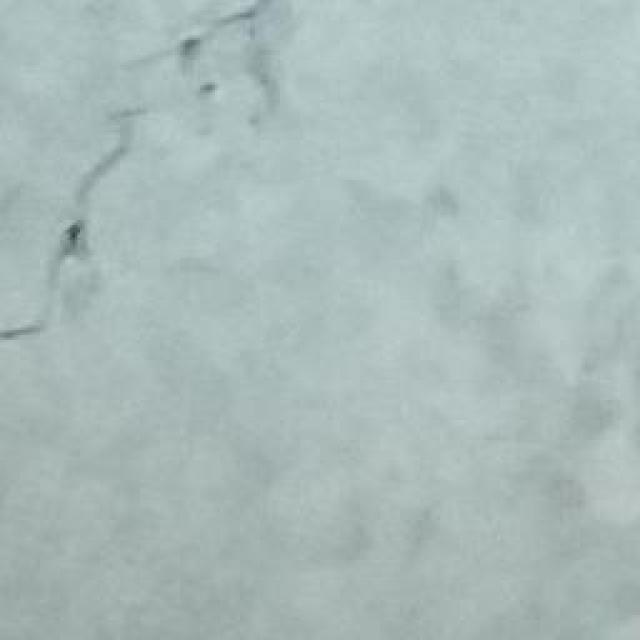Diagonal: (8, 0, 258, 380)
